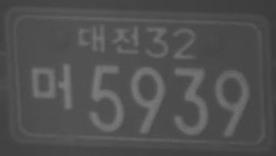2: (171, 25, 199, 61)
3: (171, 64, 210, 137), (143, 24, 170, 60)
5: (86, 62, 126, 134)
9: (128, 64, 167, 135), (212, 67, 251, 138)
대전_O: (76, 22, 140, 56)
머: (29, 61, 74, 111)
